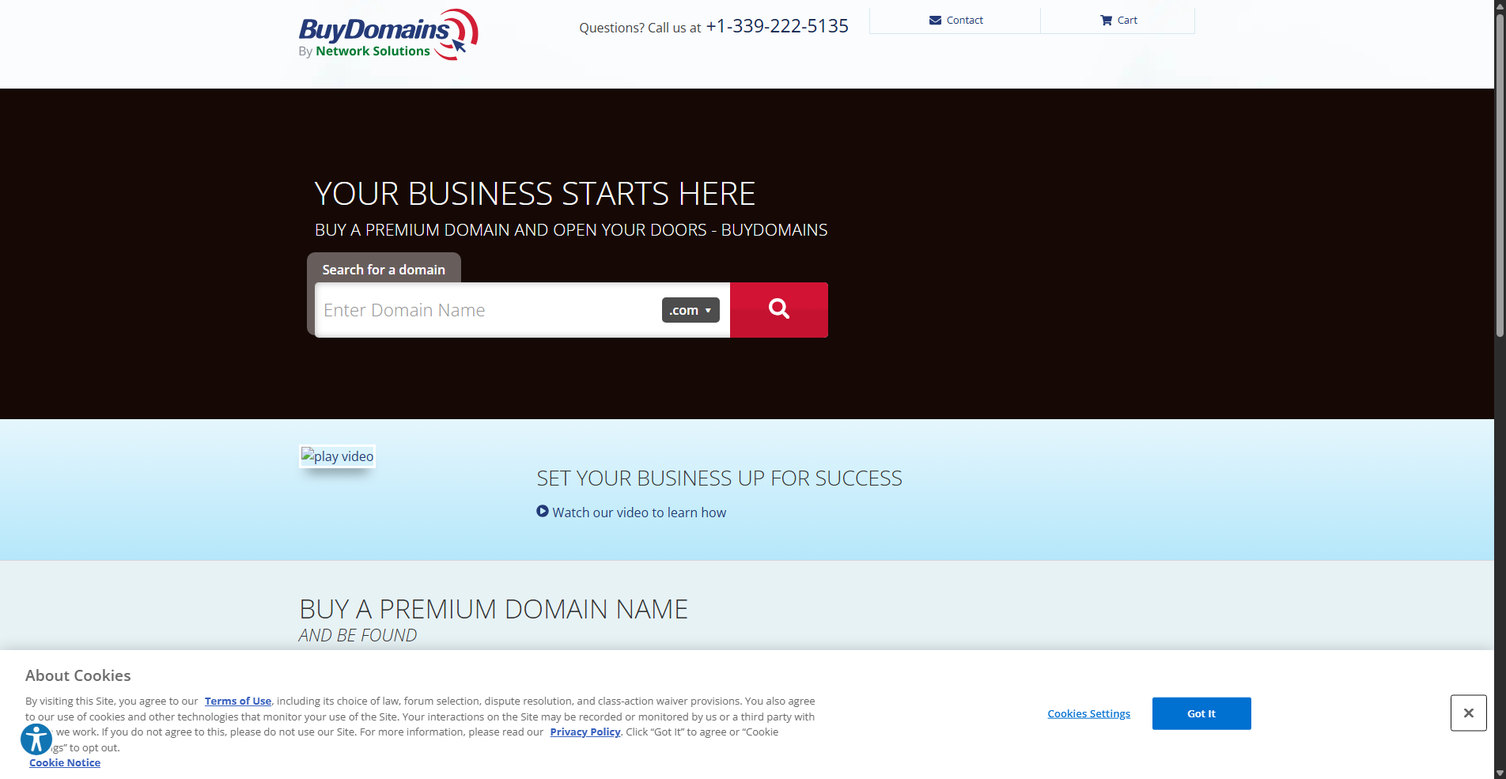button: (730, 282, 828, 338), (869, 8, 1040, 34), (1040, 8, 1195, 34), (1152, 697, 1251, 730), (537, 504, 726, 521), (1040, 698, 1139, 729), (299, 455, 376, 472), (19, 722, 54, 757), (1451, 695, 1486, 730)
dropdown: (662, 297, 720, 322)
input: (315, 282, 662, 338)
link: (299, 0, 523, 80), (701, 13, 849, 38), (875, 13, 1035, 28), (1046, 13, 1189, 28), (29, 756, 101, 770), (550, 725, 621, 739), (205, 694, 271, 708)
